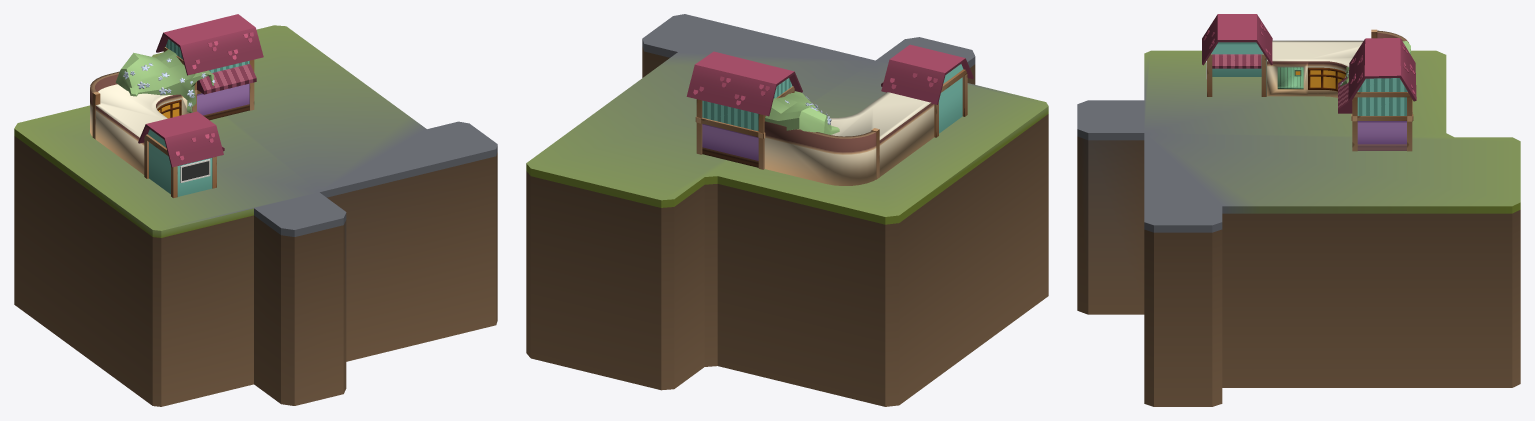
Rendered from cutepack2023newislandbase01.fbx.
3 renders of one model, left to right at view 1: azimuth 30°, elevation 25°; view 2: azimuth 150°, elevation 25°; view 3: azimuth 270°, elevation 25°, orthographic. The views are drawn at different scales.
Visible parts, largest first — view 1: Cube.007, Cube.019, Cube.270, Cube.316, Cube.290, Cube.321, Plane.012, Plane.001, Plane.003, Cube.300, Sphere.356; view 2: Cube.007, Cube.019, Cube.270, Cube.316, Cube.321, Cube.290, Plane.001, Plane.066, Plane.012; view 3: Cube.007, Cube.019, Cube.270, Cube.316, Cube.321, Plane.066, Plane.001, Plane.012, Plane.011, Cube.292, Cube.005, Cube.006 (+1 smaller).
Boxes of the visible parts, x1,y1,x2,y2 form: Cube.007: (14,136,497,406); Cube.019: (14,25,497,237); Cube.270: (90,71,192,174); Cube.316: (156,14,263,75); Cube.290: (115,49,213,112); Cube.321: (138,111,223,167); Plane.012: (148,129,212,196); Plane.001: (197,83,249,120); Plane.003: (197,64,256,94); Cube.300: (180,159,210,182); Sphere.356: (123,58,215,107); Cube.007: (526,46,1048,406); Cube.019: (526,14,1048,224); Cube.270: (764,92,934,185); Cube.316: (686,51,802,116); Cube.321: (881,44,973,104); Cube.290: (765,91,839,134); Plane.001: (702,124,758,167); Plane.066: (702,78,792,131); Plane.012: (939,64,963,133); Cube.007: (1077,136,1520,406); Cube.019: (1077,50,1520,232); Cube.270: (1267,30,1408,97); Cube.316: (1348,38,1416,101); Cube.321: (1202,14,1272,65); Plane.066: (1357,78,1407,115); Plane.001: (1357,121,1406,150); Plane.012: (1211,42,1266,95); Plane.011: (1212,54,1261,68); Cube.292: (1277,67,1303,89); Cube.005: (1310,70,1345,88); Cube.006: (1308,67,1345,91).
Bounding box in the file's own units: 5179 × 3609 × 5561.
